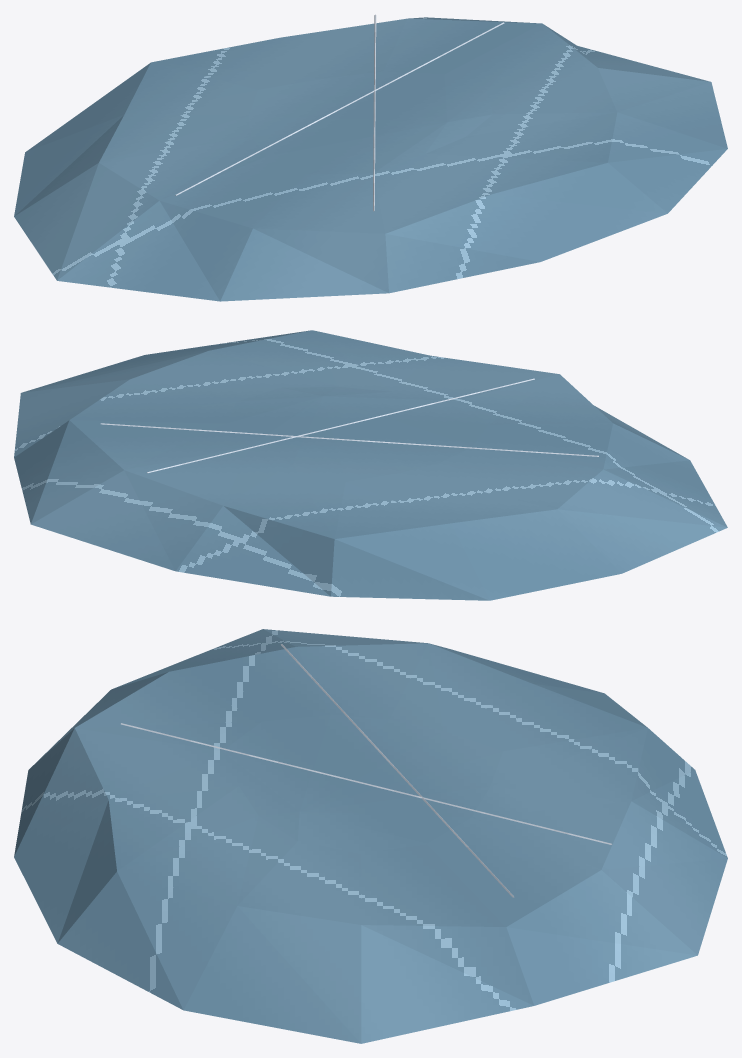
The model's file is ice_fragment.glb.
3 views of the same model, one above another, from view 1: azimuth 30°, elevation 25°; view 2: azimuth 150°, elevation 25°; view 3: azimuth 270°, elevation 25° (orthographic). The views are drawn at different scales.
Visible parts, largest first — view 1: ice_fragment; view 2: ice_fragment; view 3: ice_fragment.
Boxes of the visible parts, <box> form: ice_fragment: <box>14,14,727,301</box>; ice_fragment: <box>14,330,727,600</box>; ice_fragment: <box>14,629,727,1043</box>.
Bounding box in the file's own units: 1.1 × 0.075 × 0.8.
2 materials, 2 textured.
